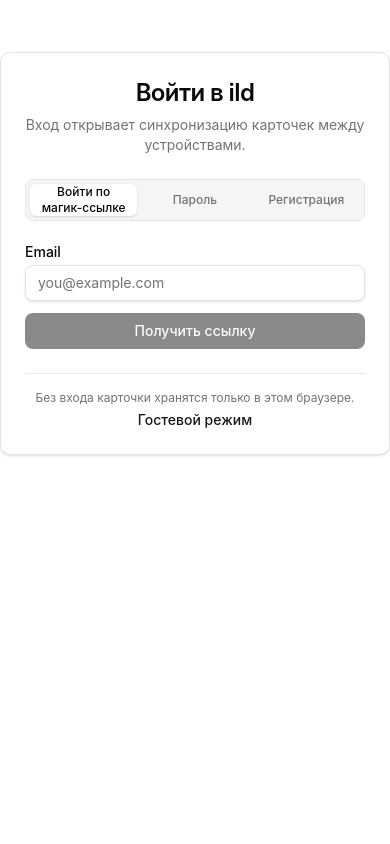
Test: LoginPage › switching to Регистрация shows the registration form fields
The image size is (390, 844).
Click the tab "Регистрация": (306, 200) [253,184,360,216]
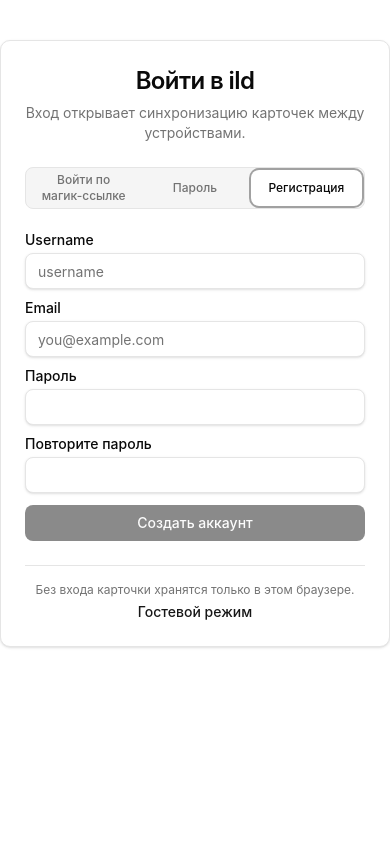
Check: the field labelled "Username" is shown, box [25,253,365,289]
Check: the field labelled "Email" is shown, box [25,321,365,357]
Check: the password field labelled "Пароль" is shown, box [25,389,365,425]
